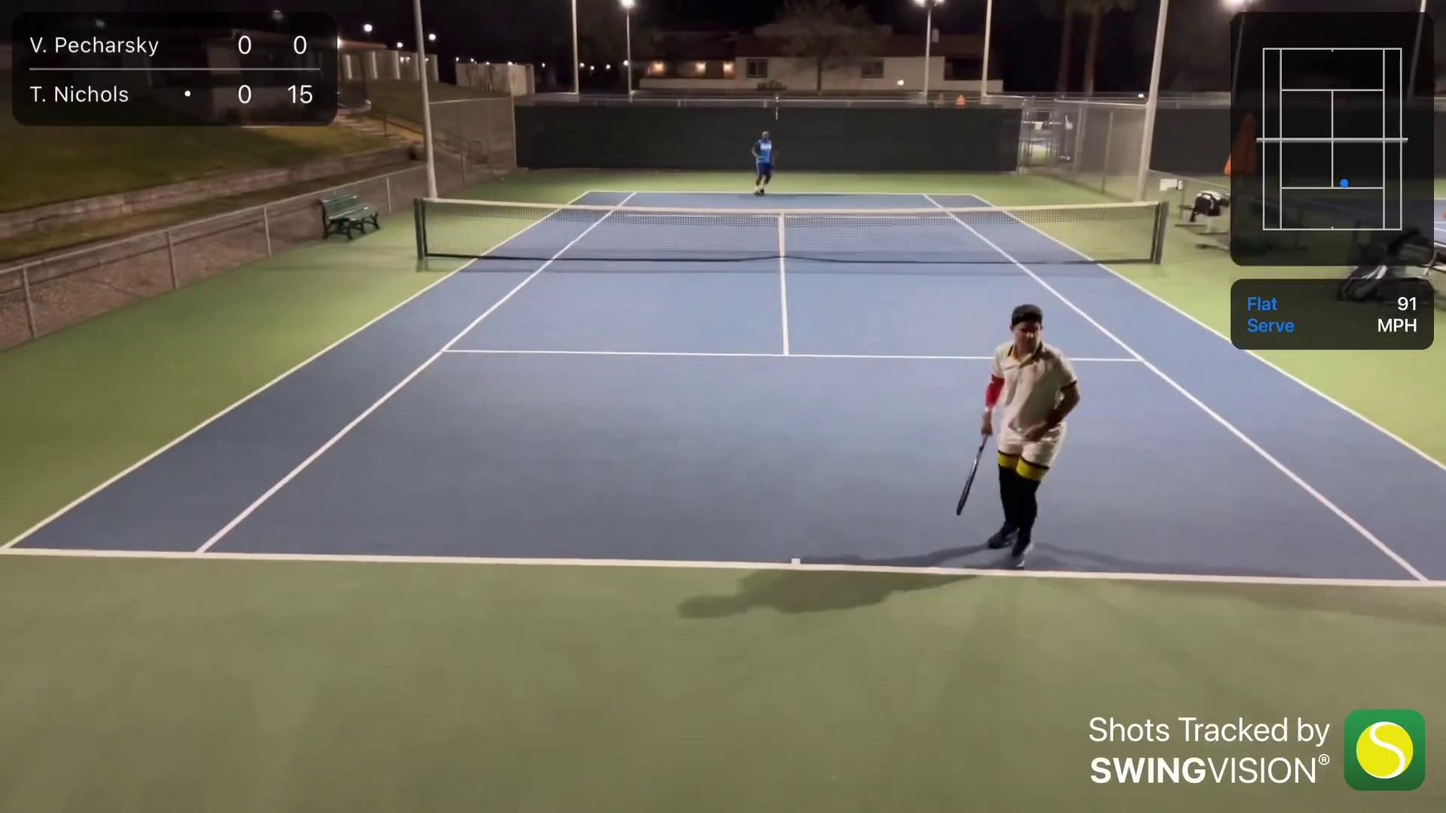ball: (499, 175, 505, 181)
